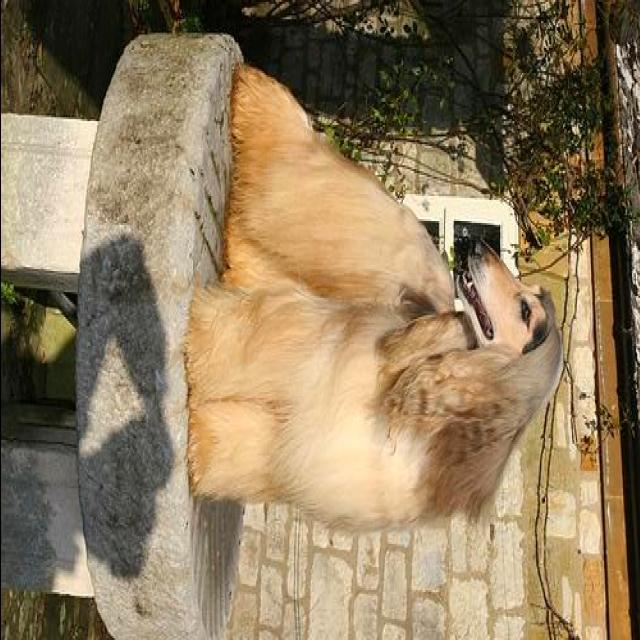afghan_hound: (185, 69, 568, 540)
